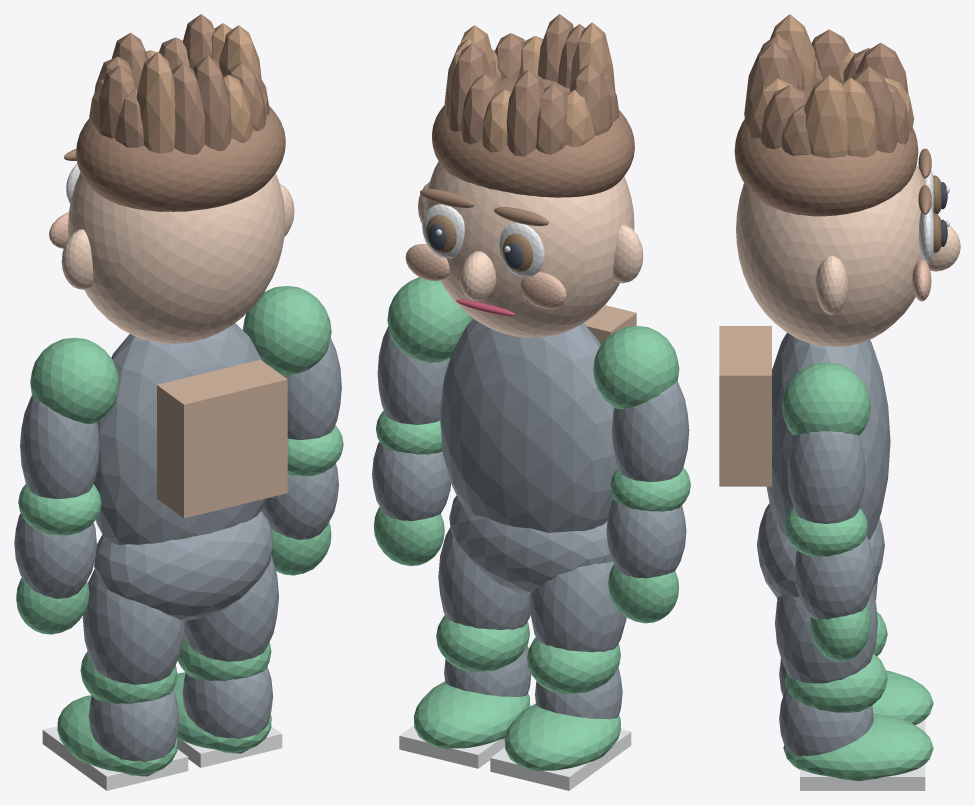
Rendered from civil_npc.glb.
3 renders of one model, left to right at view 1: azimuth 30°, elevation 25°; view 2: azimuth 150°, elevation 25°; view 3: azimuth 270°, elevation 25°, orthographic. The views are drawn at different scales.
Visible parts, largest first — view 1: Head_3, Backpack_57, Torso_1, HairBase_40, Hip_2, Thigh_16, UpperArm_12, Shoulder_28, Shoulder_11, Thigh_33, Calf_18, Calf_35 (+25 smaller); view 2: Torso_1, Head_3, HairBase_40, Hip_2, Thigh_16, UpperArm_12, Foot_19, Shoulder_11, Foot_36, Thigh_33, Shoulder_28, Forearm_14 (+36 smaller); view 3: Head_3, HairBase_40, Torso_1, Backpack_57, UpperArm_29, Foot_36, Shoulder_28, Forearm_31, Thigh_33, Calf_35, Knee_34, Hip_2 (+20 smaller).
Boxes of the visible parts, bbox=[...] form: Head_3: bbox=[68, 173, 285, 343]; Backpack_57: bbox=[157, 359, 287, 518]; Torso_1: bbox=[93, 323, 266, 544]; HairBase_40: bbox=[76, 106, 285, 211]; Hip_2: bbox=[94, 511, 273, 620]; Thigh_16: bbox=[82, 569, 184, 684]; UpperArm_12: bbox=[20, 395, 99, 498]; Shoulder_28: bbox=[242, 286, 331, 375]; Shoulder_11: bbox=[30, 337, 119, 423]; Thigh_33: bbox=[183, 555, 278, 661]; Calf_18: bbox=[88, 689, 179, 776]; Calf_35: bbox=[182, 666, 272, 753]; Torso_1: bbox=[439, 318, 617, 532]; Head_3: bbox=[424, 161, 634, 337]; HairBase_40: bbox=[432, 76, 634, 197]; Hip_2: bbox=[449, 495, 612, 594]; Thigh_16: bbox=[529, 561, 626, 652]; UpperArm_12: bbox=[612, 381, 689, 481]; Foot_19: bbox=[504, 703, 621, 770]; Shoulder_11: bbox=[593, 326, 679, 409]; Foot_36: bbox=[414, 681, 530, 748]; Thigh_33: bbox=[438, 527, 530, 629]; Shoulder_28: bbox=[387, 277, 473, 362]; Forearm_14: bbox=[606, 499, 686, 578]; Head_3: bbox=[736, 164, 931, 346]; HairBase_40: bbox=[734, 83, 918, 216]; Torso_1: bbox=[766, 333, 890, 539]; Backpack_57: bbox=[719, 326, 771, 486]; UpperArm_29: bbox=[787, 431, 865, 523]; Foot_36: bbox=[783, 713, 933, 780]; Shoulder_28: bbox=[782, 362, 870, 435]; Forearm_31: bbox=[794, 535, 875, 619]; Thigh_33: bbox=[775, 590, 877, 683]; Calf_35: bbox=[779, 688, 873, 756]; Knee_34: bbox=[784, 653, 887, 712]; Hip_2: bbox=[757, 503, 884, 598].
Size of the model in its own units: 1.27 by 2.85 by 0.867.
